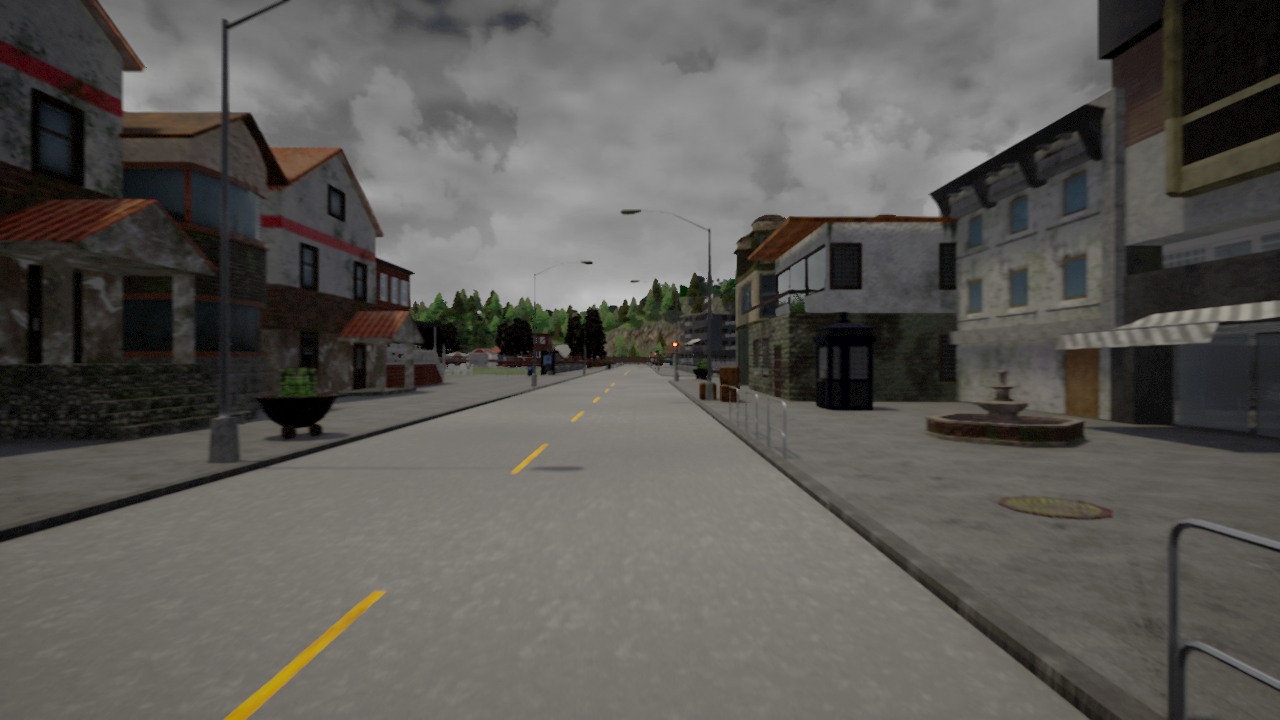red: (672, 341, 678, 354)
